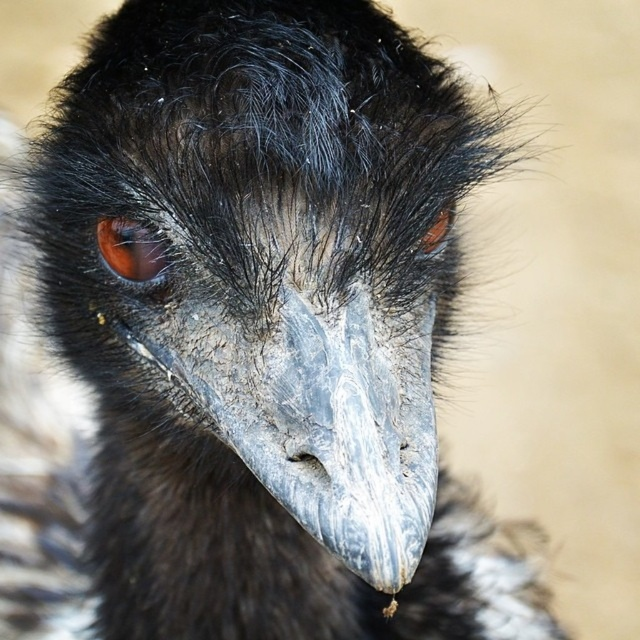Ostrich: (0, 0, 576, 640)
